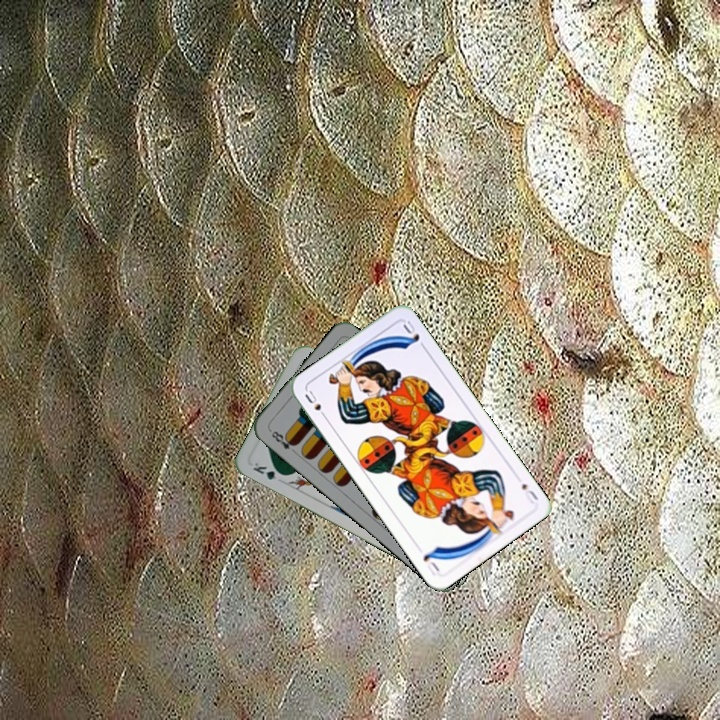E8: (266, 426, 299, 456)
GK: (249, 458, 288, 482)
SU: (301, 386, 330, 422), (517, 479, 541, 506)
